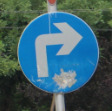right_turn: (17, 12, 99, 93)
